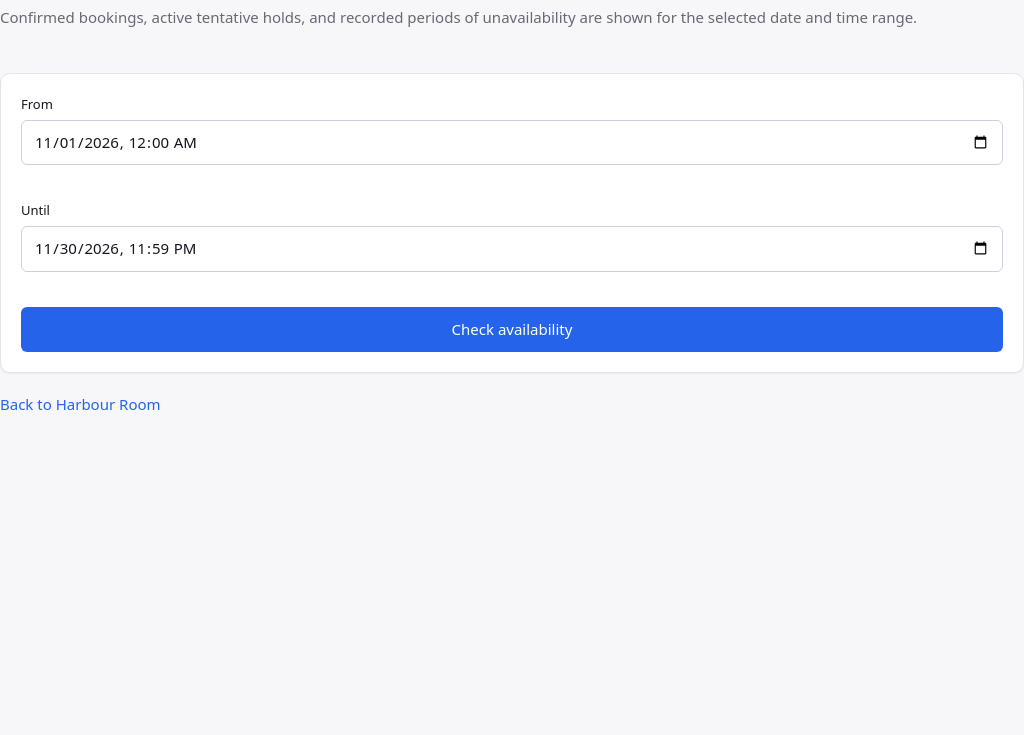
View Venue Availability Calendar › AC1-AC3: shows confirmed bookings and closures for the selected date/time range
Replace the text in the field labelled "From" with "2026-11-02T09:00". click: (512, 143)
box: top-left (21, 120), bottom-right (1003, 165)
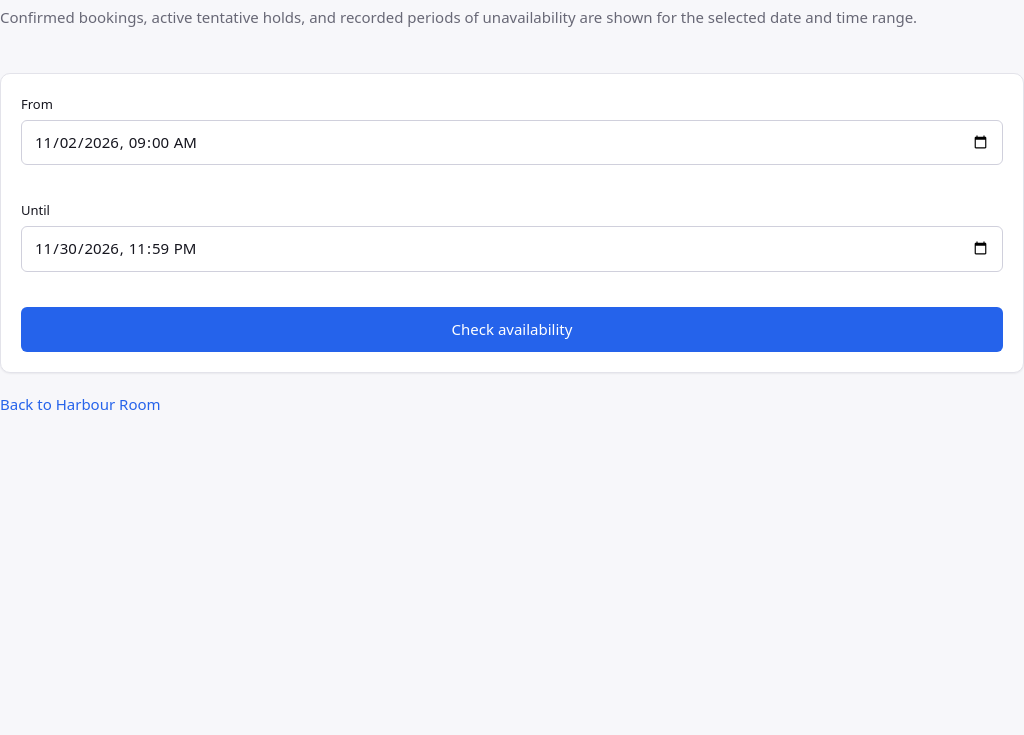
Replace the text in the field labelled "Until" with "2026-11-02T17:00". click: (512, 249)
box: top-left (21, 226), bottom-right (1003, 272)
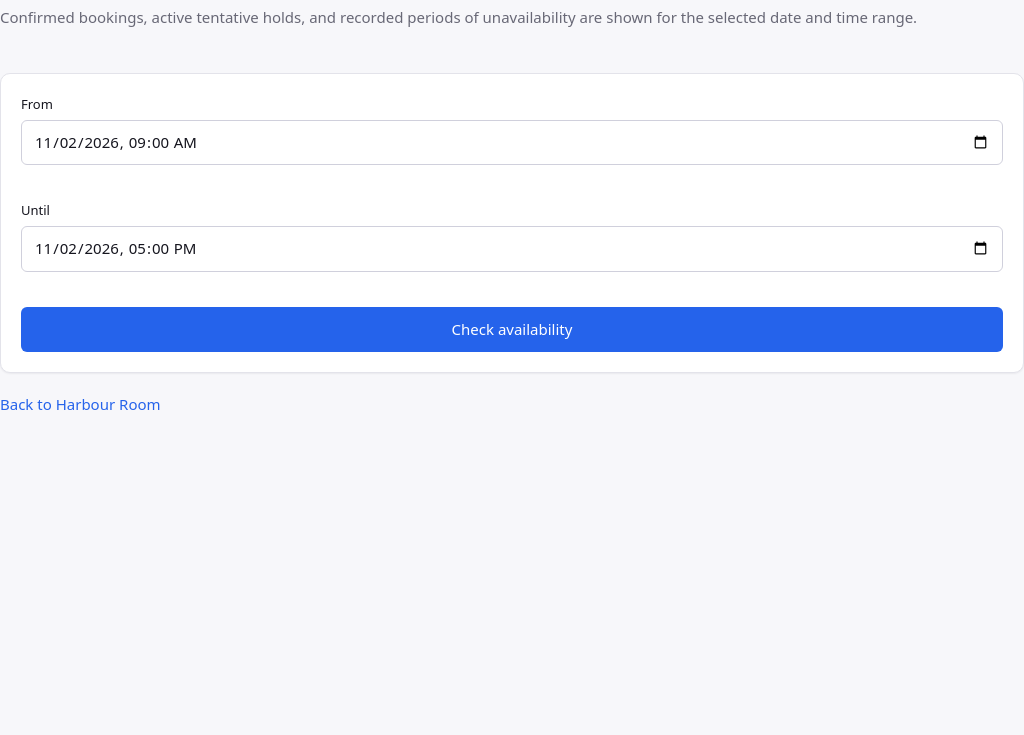
Click the button "Check availability". click: (512, 329)
box: top-left (21, 306), bottom-right (1003, 352)
(page scrolled)
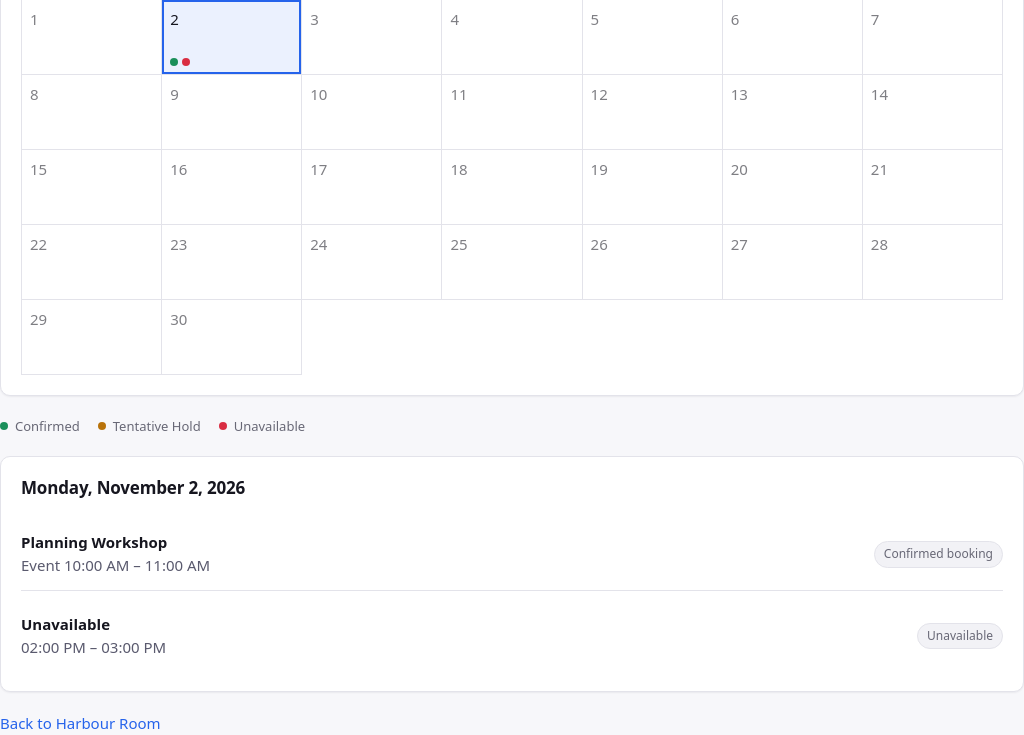
Expected: the text "Planning Workshop" is shown, top-left (21, 532), bottom-right (167, 552)
Expected: the element named "Availability on 2026-11-02" shows "Confirmed booking", top-left (884, 545), bottom-right (993, 562)
Expected: the element named "Availability on 2026-11-02" shows "Unavailable", top-left (21, 614), bottom-right (110, 634)
